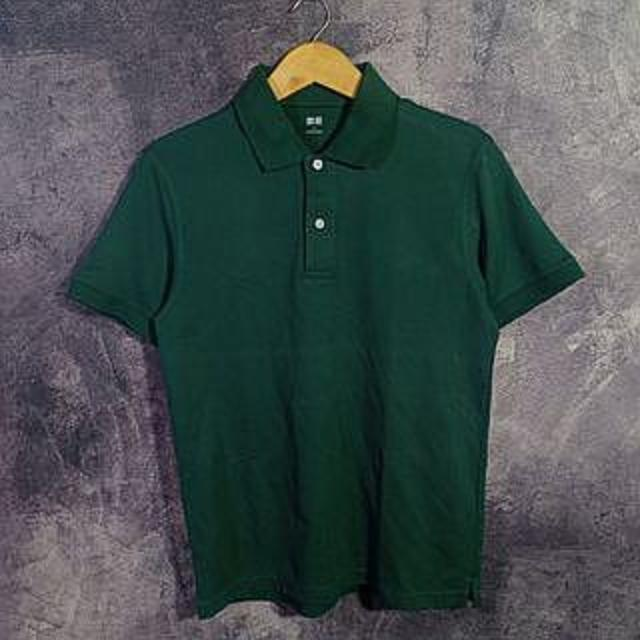T_SHIRT: (50, 42, 594, 621)
